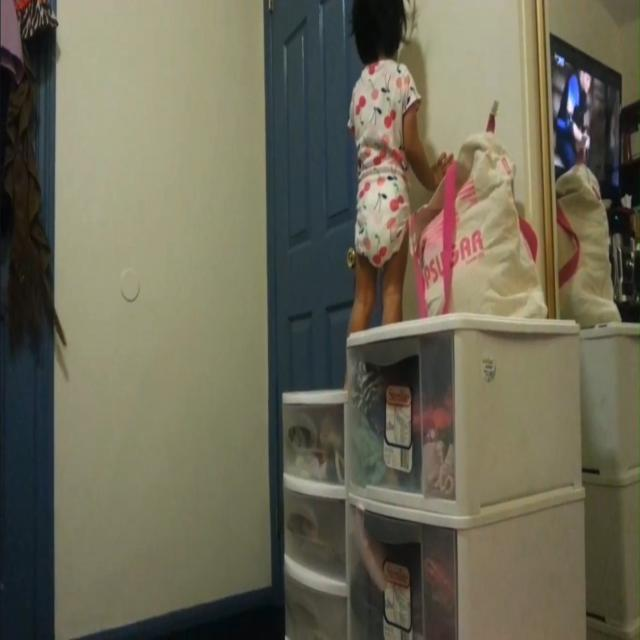child: (345, 0, 438, 338)
